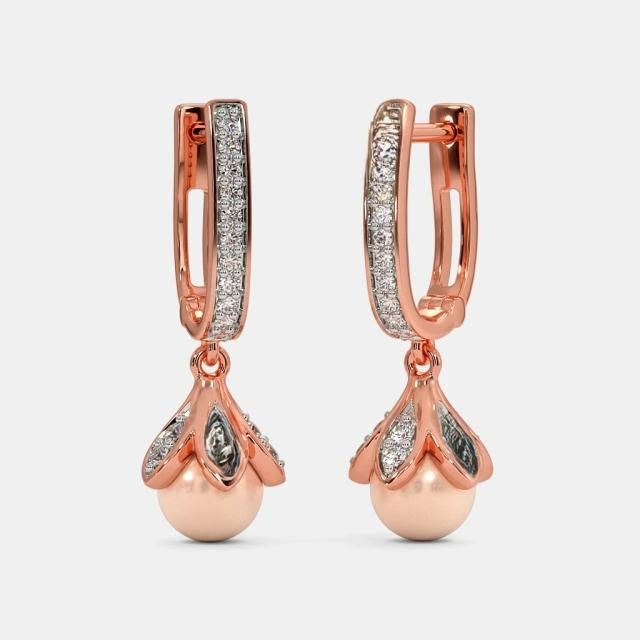missing gem: (437, 402, 476, 480), (207, 400, 237, 484), (373, 101, 404, 170)
